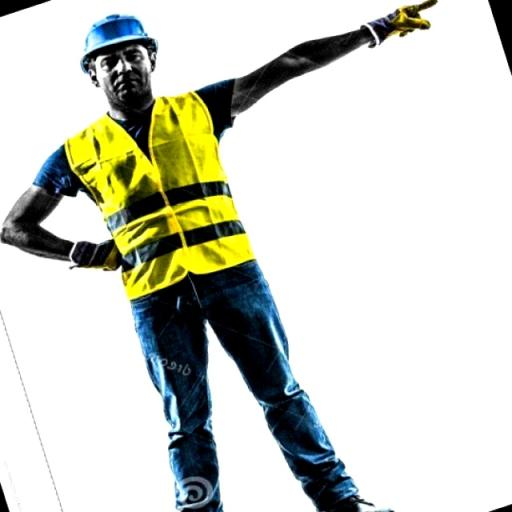Person: (14, 1, 488, 510)
gloves: (357, 1, 435, 49), (64, 234, 128, 278)
helmet: (78, 14, 164, 68)
vest: (61, 92, 270, 306)
